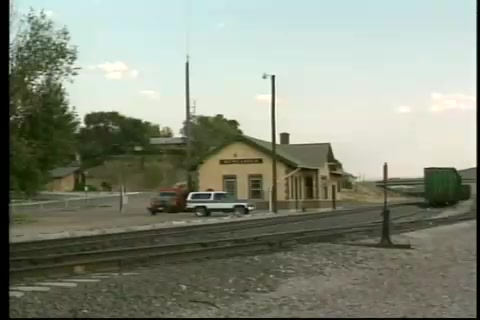train: (424, 165, 472, 210)
